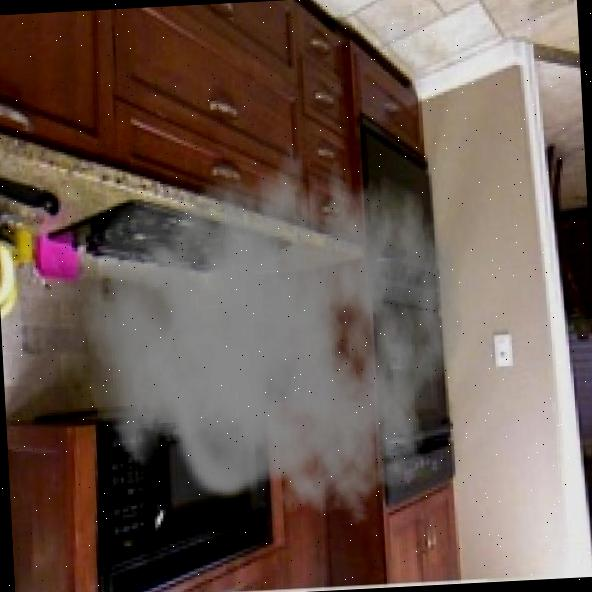smoke: (71, 114, 475, 539)
